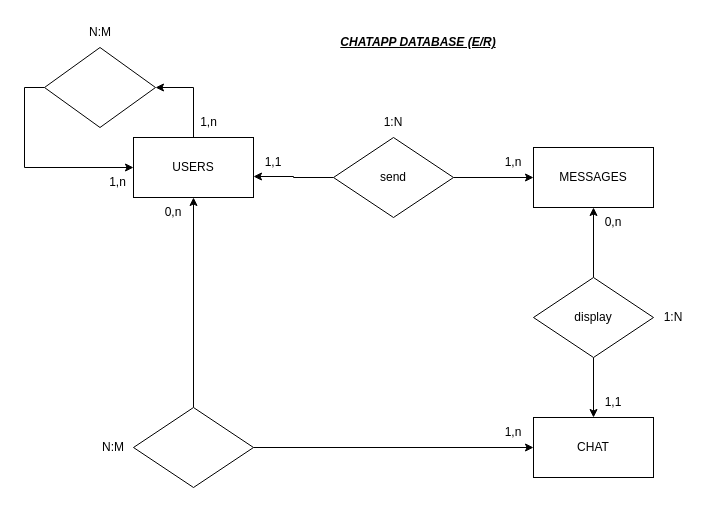
The diagram is 721 pixels wide and 505 high, and some of its shapes have lost their labels. Each missing label, with the box of its shape:
friendship: (44, 46, 156, 128)
participate: (132, 406, 254, 488)
